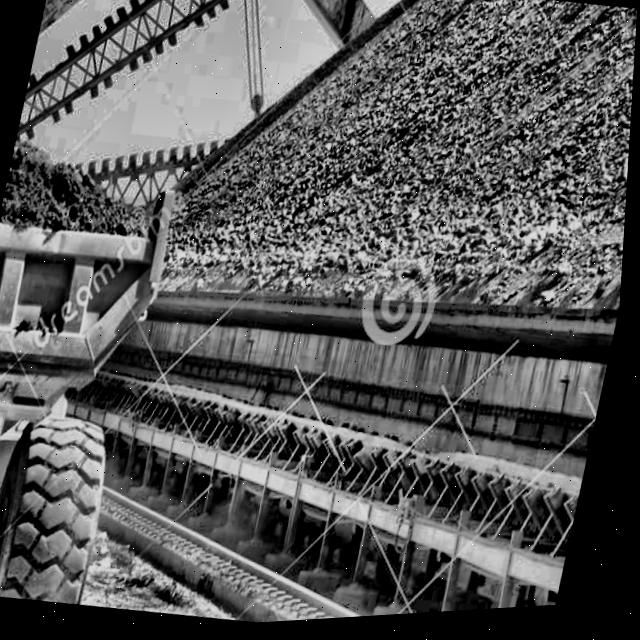dump_truck: (0, 60, 216, 615)
